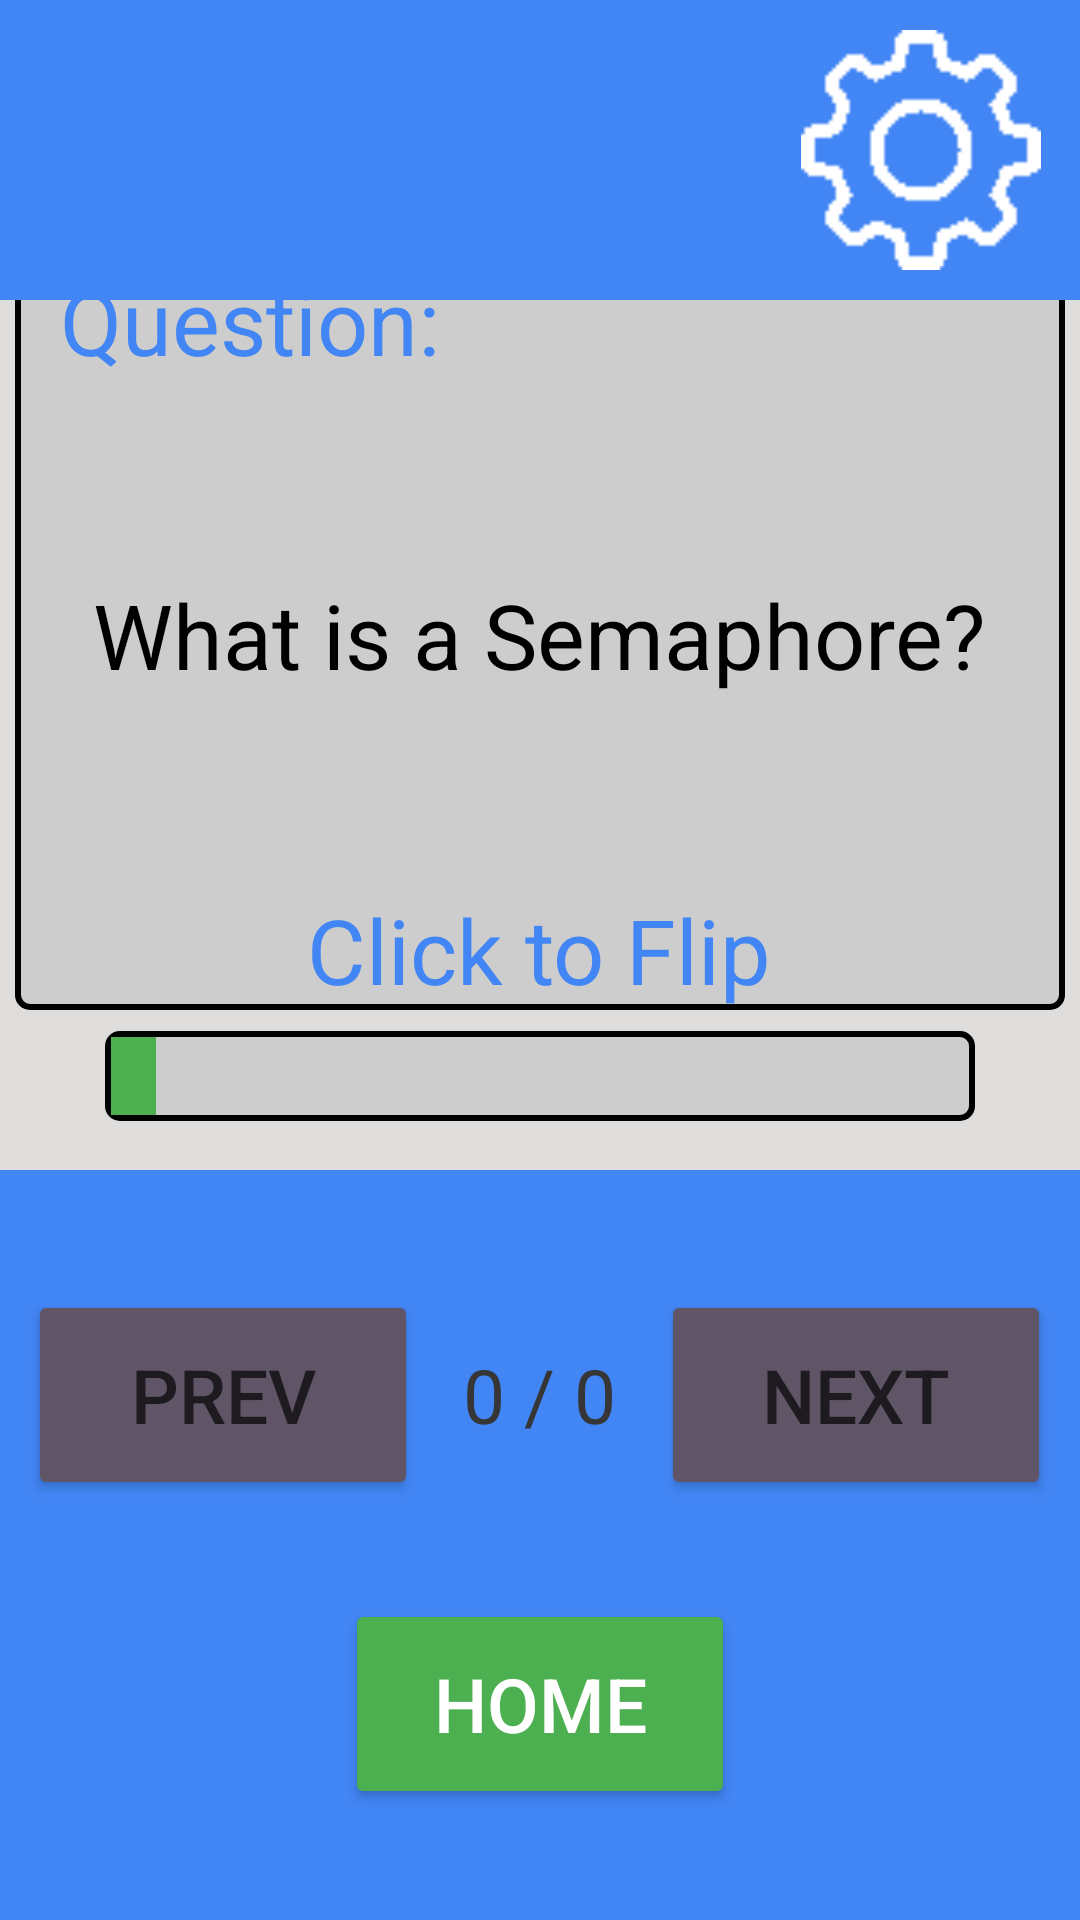

Where to tap for icons on this 1080w x 1920h app screen, as (x,y):
settings: (921,150)
